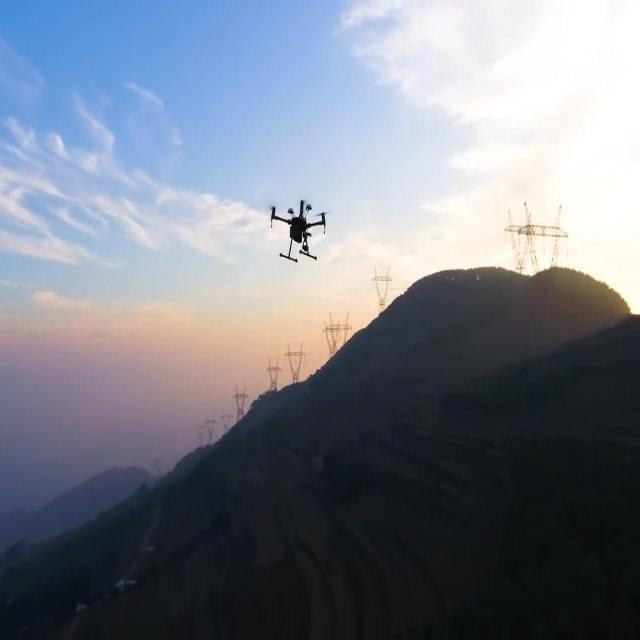UAV: (270, 199, 330, 263)
